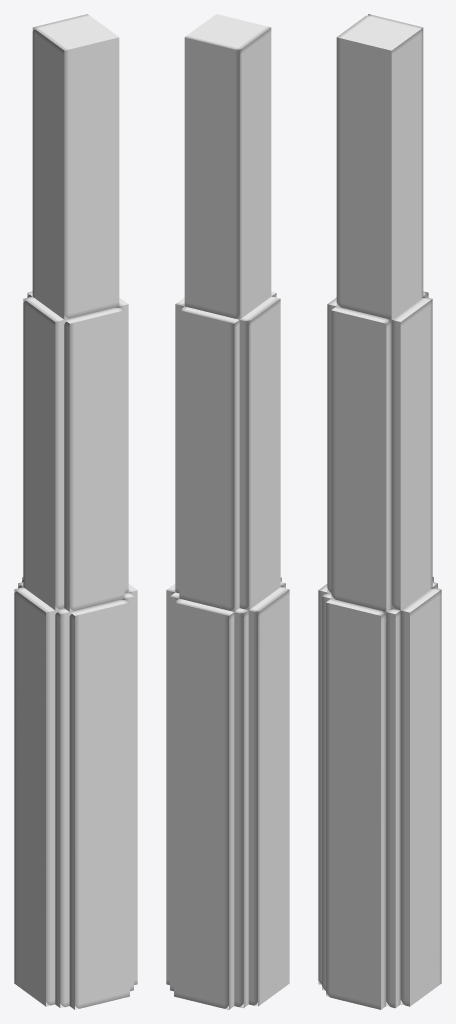
File: wind turbine base.obj
The picture shows the model from 3 angles, left to right: view 1: azimuth 30°, elevation 25°; view 2: azimuth 150°, elevation 25°; view 3: azimuth 330°, elevation 25°; orthographic projection.
Visible parts, largest first — view 1: Model; view 2: Model; view 3: Model.
Boxes of the visible parts, box(x1,y1,x2,y2) form: Model: box(14, 14, 137, 1009); Model: box(166, 14, 289, 1009); Model: box(318, 14, 441, 1009).
Size of the model in its own units: 2.94 by 29.06 by 2.94.
Materials: 1 (1 with a texture image).
